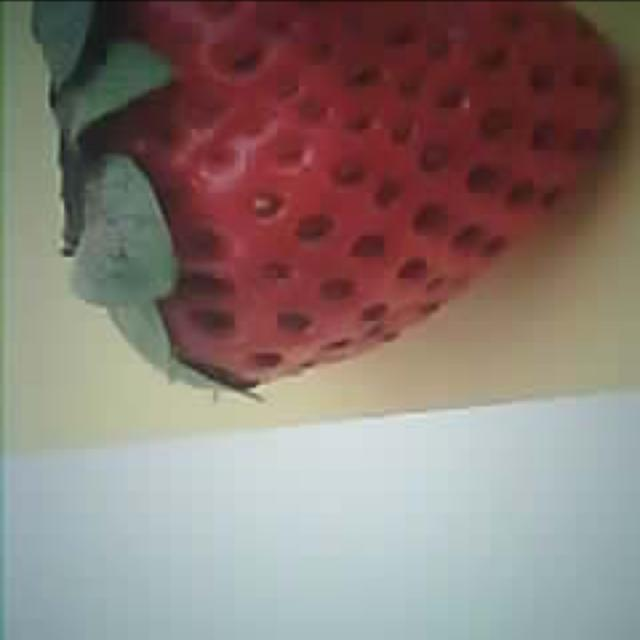strawberry: (72, 0, 618, 384)
